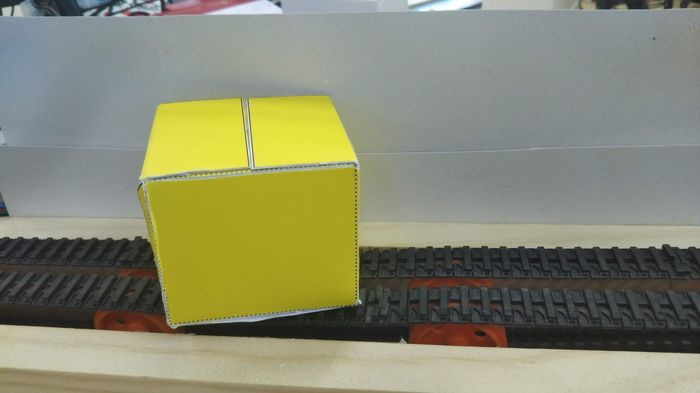box4: (135, 90, 367, 330)
